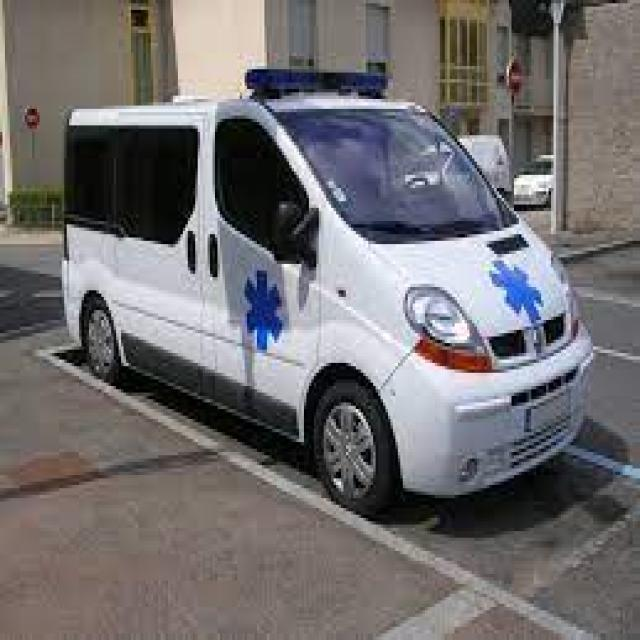ambulance: (46, 44, 604, 538)
